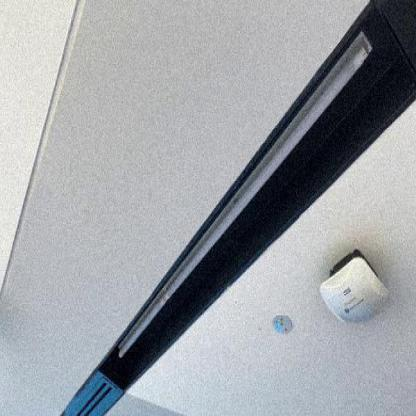light_off: (111, 23, 375, 366)
